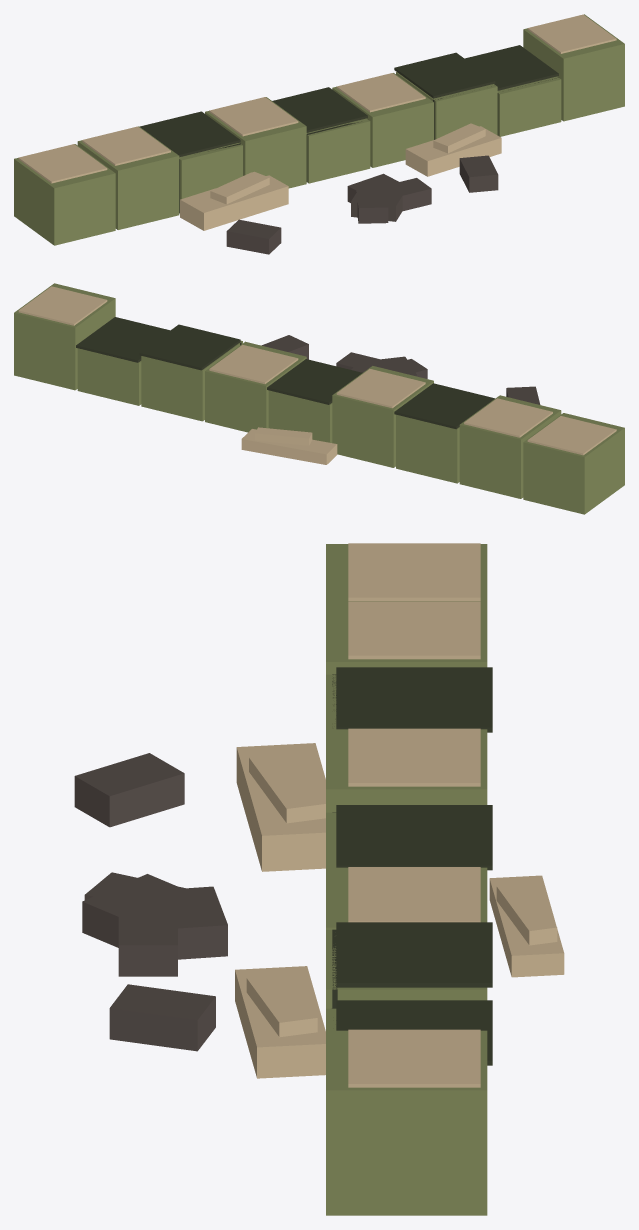
The model's file is SM_MuroHesco_v4_Red_e2_MuyDanado_LOD1.fbx.
The picture shows the model from 3 angles, top to bottom: view 1: azimuth 30°, elevation 25°; view 2: azimuth 150°, elevation 25°; view 3: azimuth 270°, elevation 25°; orthographic projection. The views are drawn at different scales.
Visible parts, largest first — view 1: SM_bloques.muro_hesco_estados_v18_LOD1; view 2: SM_bloques.muro_hesco_estados_v18_LOD1; view 3: SM_bloques.muro_hesco_estados_v18_LOD1.
Part boxes in pixels (box(x1,y1,x2,y2)): SM_bloques.muro_hesco_estados_v18_LOD1: box(14, 14, 624, 254); SM_bloques.muro_hesco_estados_v18_LOD1: box(14, 283, 624, 514); SM_bloques.muro_hesco_estados_v18_LOD1: box(74, 543, 564, 1215).
Size of the model in its own units: 9.96 by 1.08 by 3.7.
